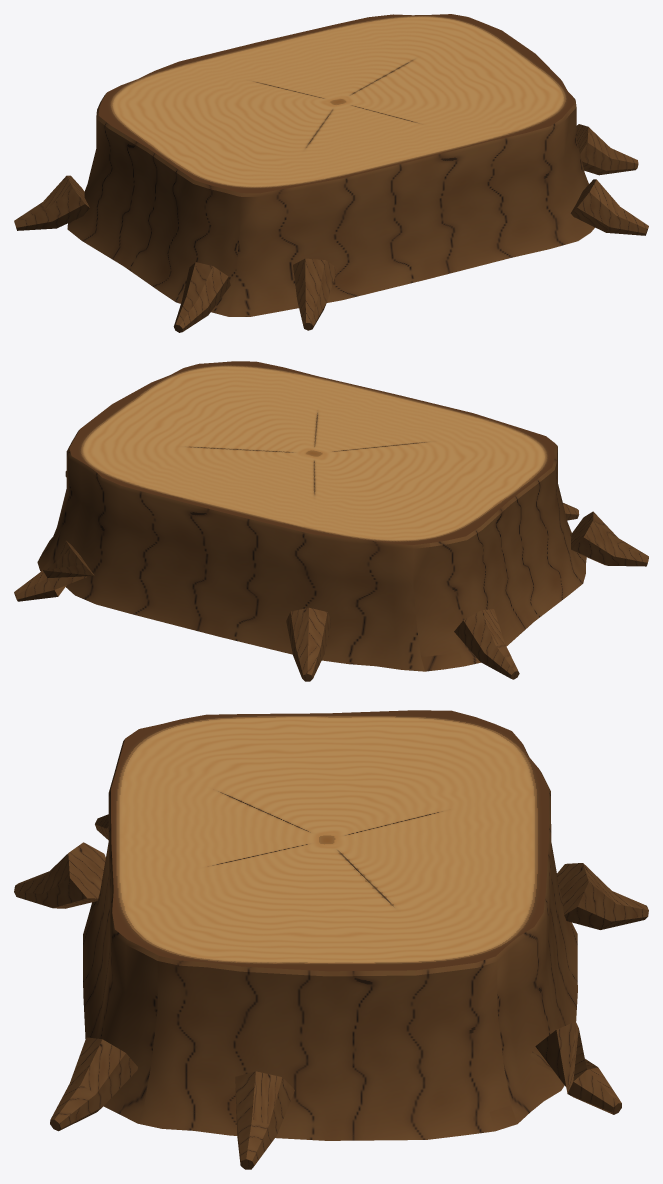
Rendered from Table_Stump.fbx.
3 views of the same model, one above another, from view 1: azimuth 30°, elevation 25°; view 2: azimuth 150°, elevation 25°; view 3: azimuth 270°, elevation 25° (orthographic). The views are drawn at different scales.
Visible parts, largest first — view 1: Table_Stump; view 2: Table_Stump; view 3: Table_Stump.
Boxes of the visible parts, x1,y1,x2,y2 form: Table_Stump: (14, 14, 648, 332); Table_Stump: (14, 361, 648, 681); Table_Stump: (14, 710, 648, 1169).
Bounding box in the file's own units: 7.96 × 1.6 × 6.03.
1 material, 1 textured.
